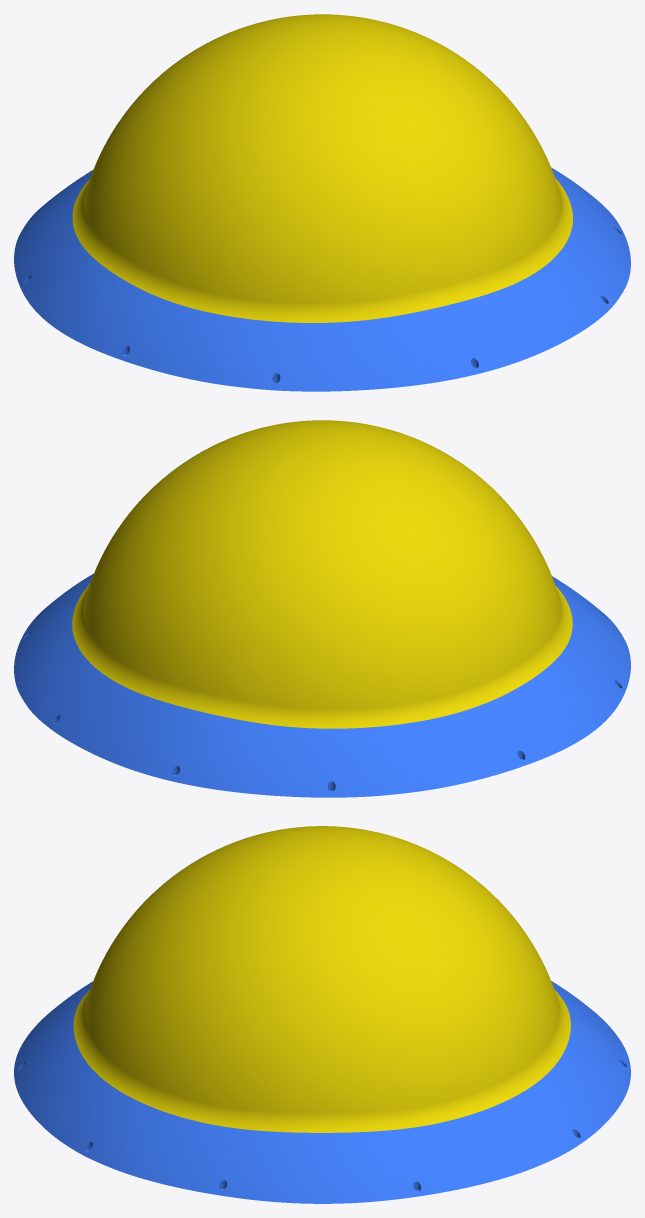
Rendered from hold_conver_no5.glb.
The picture shows the model from 3 angles, top to bottom: view 1: azimuth 30°, elevation 25°; view 2: azimuth 150°, elevation 25°; view 3: azimuth 270°, elevation 25°; orthographic projection.
Visible parts, largest first — view 1: Object_2, Object_3; view 2: Object_2, Object_3; view 3: Object_2, Object_3.
Boxes of the visible parts, x1,y1,x2,y2 form: Object_2: (72, 14, 572, 322); Object_3: (14, 167, 630, 391); Object_2: (72, 420, 572, 728); Object_3: (14, 573, 630, 797); Object_2: (73, 826, 570, 1132); Object_3: (14, 981, 630, 1203).
Bounding box in the file's own units: 629 × 250 × 625.
